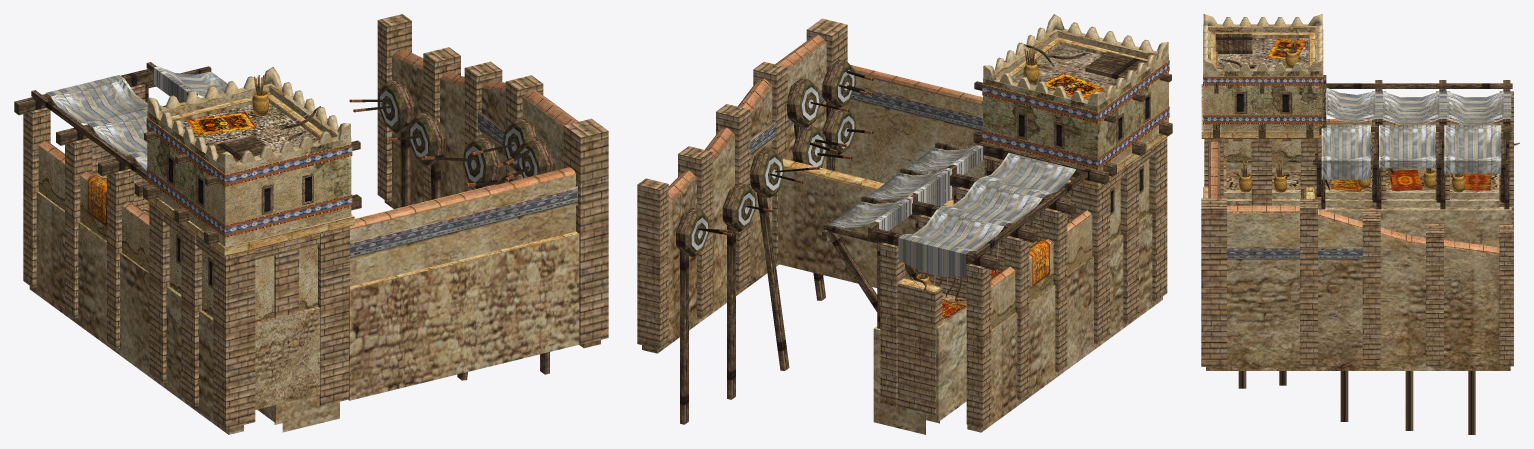
File: pers_range.glb
3 renders of one model, left to right at view 1: azimuth 30°, elevation 25°; view 2: azimuth 150°, elevation 25°; view 3: azimuth 270°, elevation 25°, orthographic. The views are drawn at different scales.
Bounding box in the file's own units: 25.58 × 24.18 × 23.52.
1 material, 1 textured.
